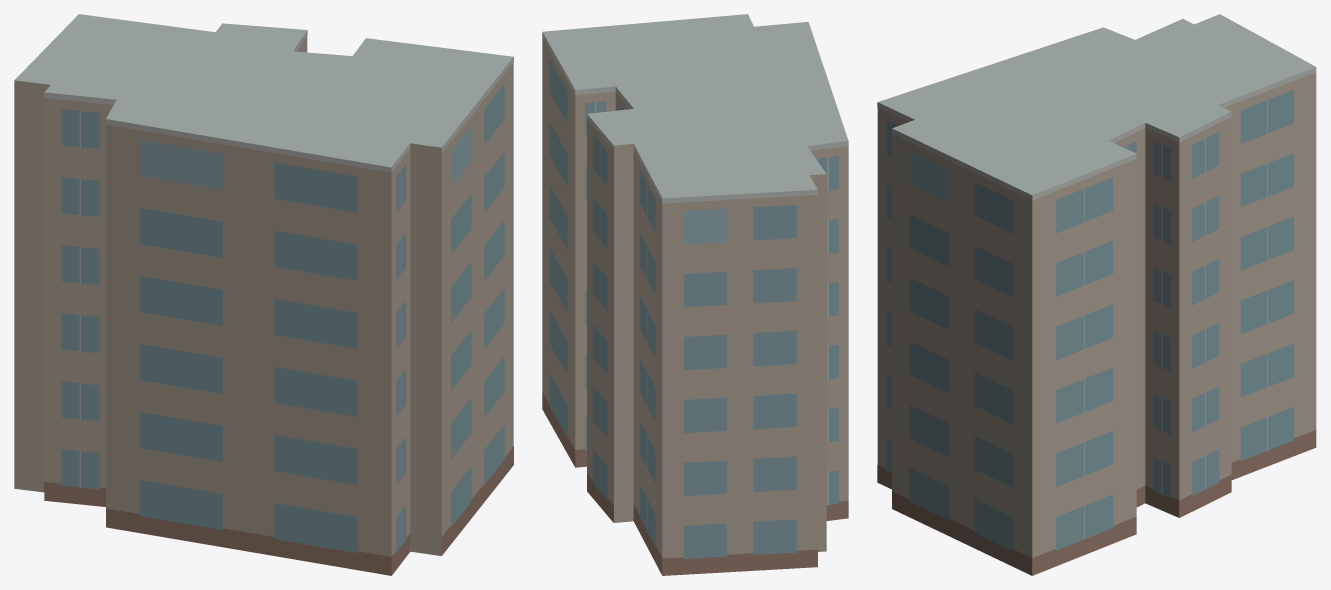
File: survey-upis-32590974.glb
3 renders of one model, left to right at view 1: azimuth 30°, elevation 25°; view 2: azimuth 150°, elevation 25°; view 3: azimuth 270°, elevation 25°, orthographic. The views are drawn at different scales.
Parts seen in each view (by area): view 1: survey-upis-32590974.tmp; view 2: survey-upis-32590974.tmp; view 3: survey-upis-32590974.tmp.
Part boxes in pixels (box(x1,y1,x2,y2)): survey-upis-32590974.tmp: box(14, 14, 513, 575); survey-upis-32590974.tmp: box(542, 14, 848, 575); survey-upis-32590974.tmp: box(877, 14, 1316, 575).
Bounding box in the file's own units: 18.35 × 17.95 × 18.77.
